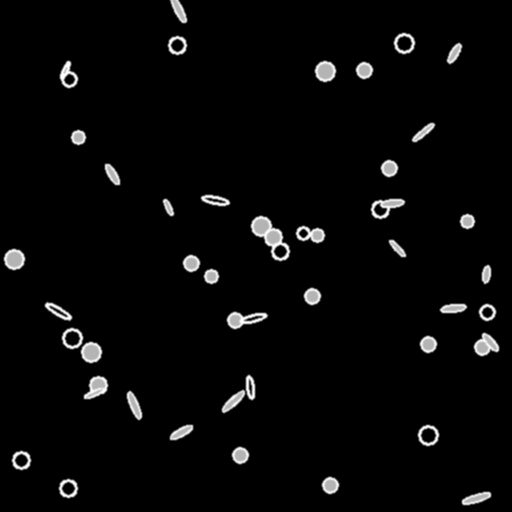pseudomonas: (220, 389, 246, 413), (44, 301, 72, 321), (411, 122, 435, 142), (126, 390, 142, 420), (168, 0, 188, 24), (103, 162, 121, 186), (169, 423, 193, 441), (462, 491, 490, 505), (481, 332, 499, 352), (446, 42, 462, 64), (388, 239, 406, 257), (240, 312, 266, 324), (202, 195, 228, 205), (440, 303, 466, 313), (59, 60, 71, 80), (84, 387, 104, 399), (245, 376, 255, 398), (162, 199, 174, 215), (381, 199, 403, 207), (482, 265, 490, 283)
synechocystis: (316, 62, 334, 80), (395, 34, 413, 52), (82, 343, 100, 361), (63, 329, 81, 347), (252, 217, 270, 235), (5, 250, 23, 268), (419, 426, 437, 444), (13, 452, 29, 468), (372, 201, 388, 217), (60, 480, 76, 496), (90, 377, 106, 393), (265, 229, 281, 245), (169, 37, 185, 53), (272, 243, 288, 259), (421, 337, 435, 351), (357, 63, 371, 77), (480, 305, 494, 319), (62, 72, 76, 86), (475, 340, 489, 354), (382, 161, 396, 175), (305, 289, 319, 303), (228, 313, 242, 327), (323, 478, 337, 492), (233, 448, 247, 462), (184, 256, 198, 270), (311, 229, 323, 241), (461, 215, 473, 227), (205, 270, 217, 282), (72, 131, 84, 143), (297, 227, 309, 239)
